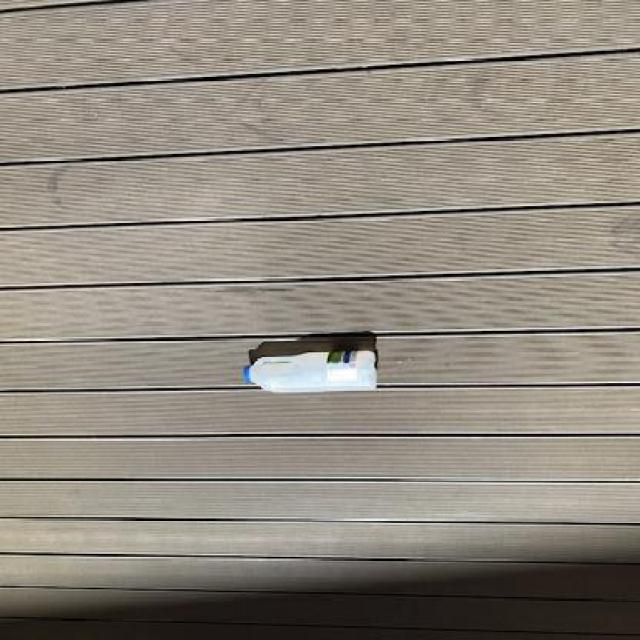trash: (241, 346, 385, 397)
